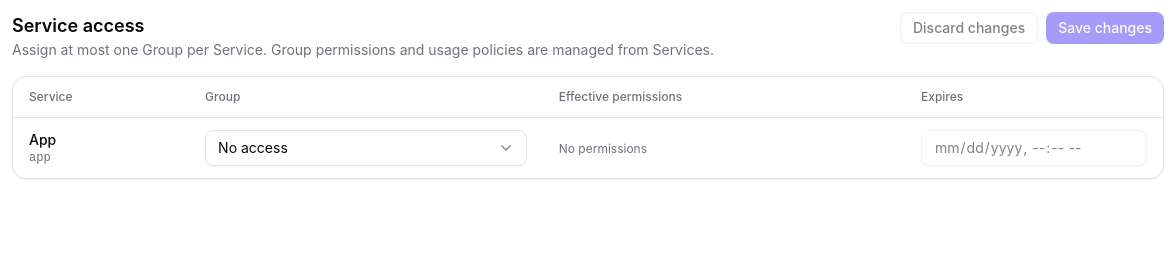
Scenario: UserAccessTab › enables buttons after changing a group
Click the dropdown named "Group for App". click: (253, 147)
box: [205,130,527,166]
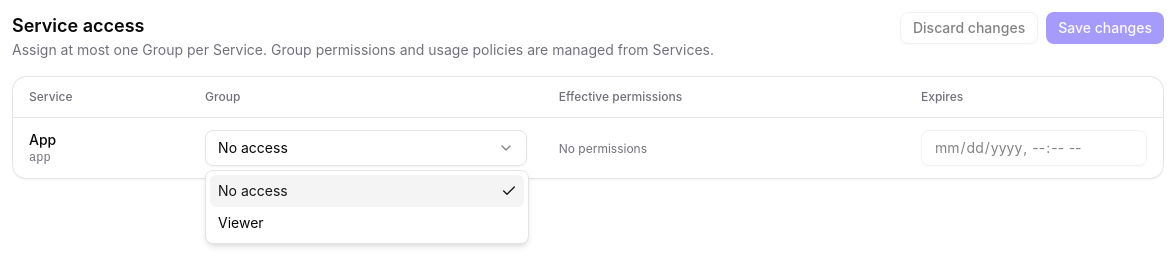
Click the option "Viewer". click: (241, 222)
box: [218,214,264,231]
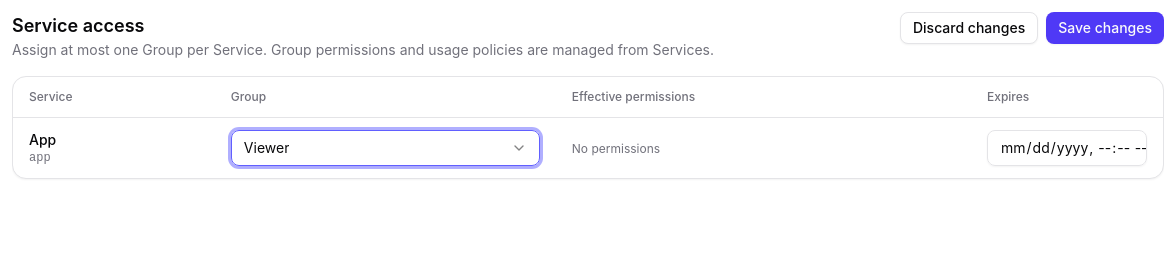
Expected: the button "Discard changes" is enabled, [900,12,1038,44]
Expected: the button "Save changes" is enabled, [1046,12,1164,44]
